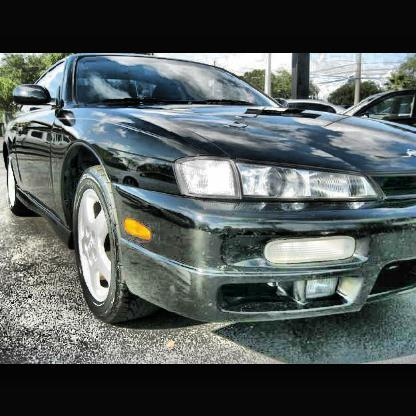Nissan 240SX Coupe 1998: (1, 54, 317, 328)
